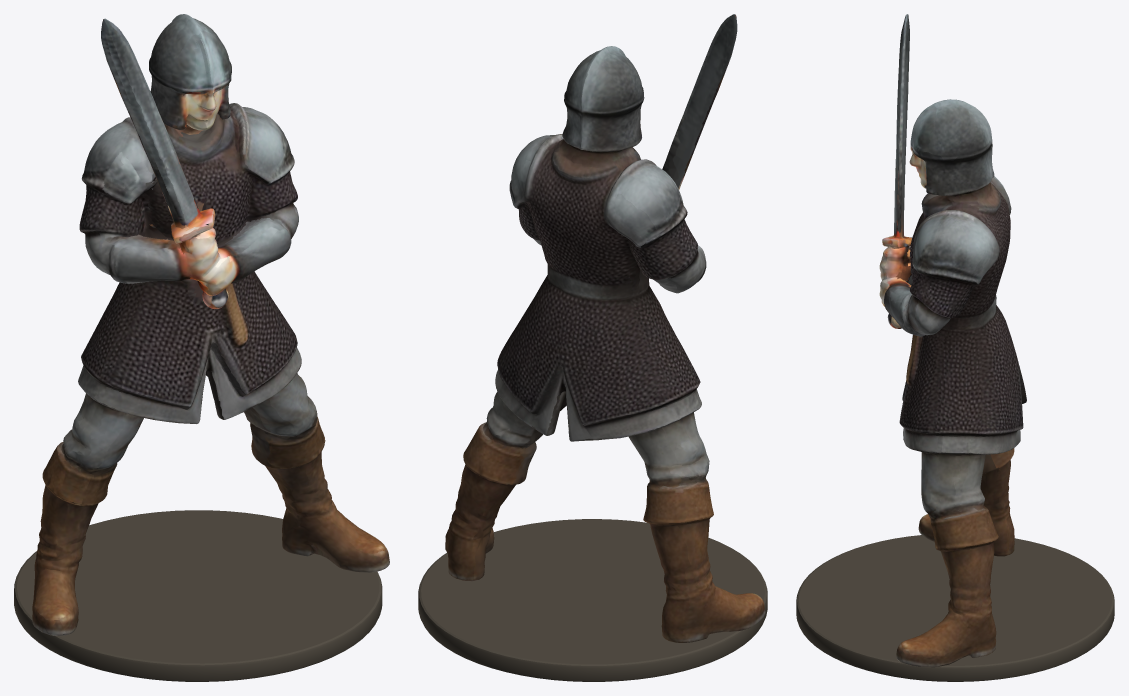
File: human-guard.glb
3 views of the same model, side by side, from view 1: azimuth 30°, elevation 25°; view 2: azimuth 150°, elevation 25°; view 3: azimuth 270°, elevation 25° (orthographic). The views are drawn at different scales.
Visible parts, largest first — view 1: human-guard_body, human-guard_round_base; view 2: human-guard_body, human-guard_round_base; view 3: human-guard_body, human-guard_round_base.
Part boxes in pixels (<box>): human-guard_body: <box>32,14,389,635</box>; human-guard_round_base: <box>14,510,382,681</box>; human-guard_body: <box>445,14,765,642</box>; human-guard_round_base: <box>418,519,767,681</box>; human-guard_body: <box>879,14,1026,667</box>; human-guard_round_base: <box>796,535,1114,681</box>.
Size of the model in its own units: 1.05 by 1.9 by 1.
Materials: 2 (1 with a texture image).
